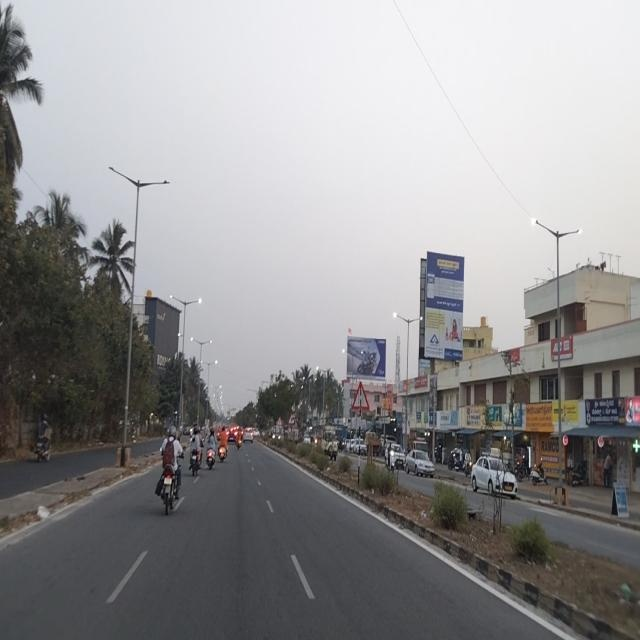bien_nguy_hiem: (349, 377, 371, 413)
